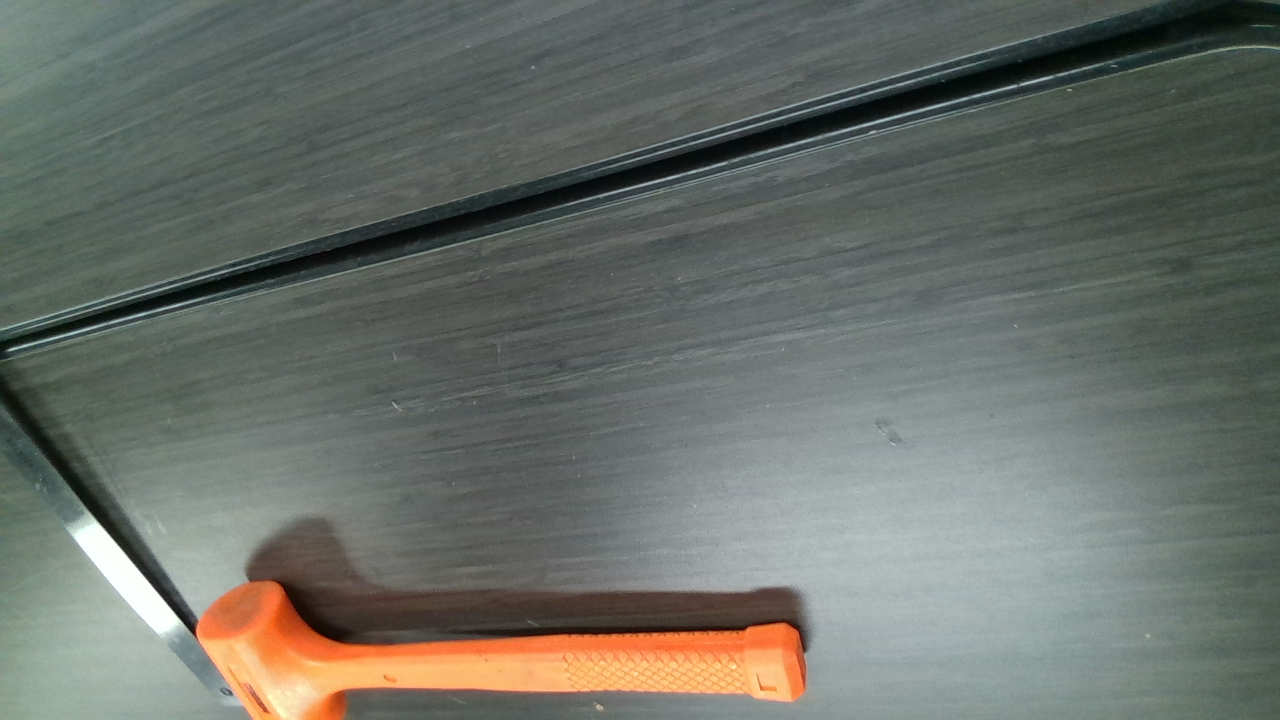Orange Hammer: (197, 582, 805, 718)
